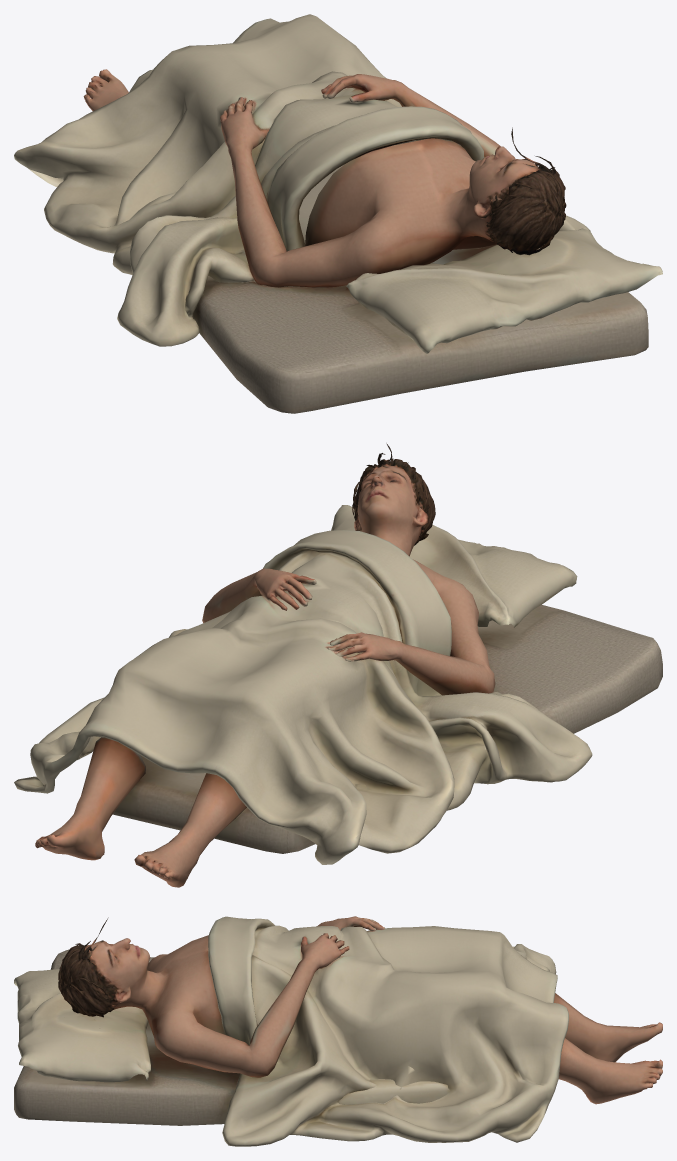
File: theme-sleeping-person-v05.glb
The picture shows the model from 3 angles, top to bottom: view 1: azimuth 30°, elevation 25°; view 2: azimuth 150°, elevation 25°; view 3: azimuth 270°, elevation 25°; orthographic projection. The views are drawn at different scales.
Visible parts, largest first — view 1: tripo_node_1e249b78-7998-4bcc-ba0d-ce0c1e7ca519; view 2: tripo_node_1e249b78-7998-4bcc-ba0d-ce0c1e7ca519; view 3: tripo_node_1e249b78-7998-4bcc-ba0d-ce0c1e7ca519.
Part boxes in pixels (bbox=[...]): tripo_node_1e249b78-7998-4bcc-ba0d-ce0c1e7ca519: bbox=[14, 14, 662, 413]; tripo_node_1e249b78-7998-4bcc-ba0d-ce0c1e7ca519: bbox=[14, 443, 662, 887]; tripo_node_1e249b78-7998-4bcc-ba0d-ce0c1e7ca519: bbox=[14, 916, 662, 1146].
Size of the model in its own units: 1.18 by 0.5678 by 1.78.
1 material, 1 textured.
